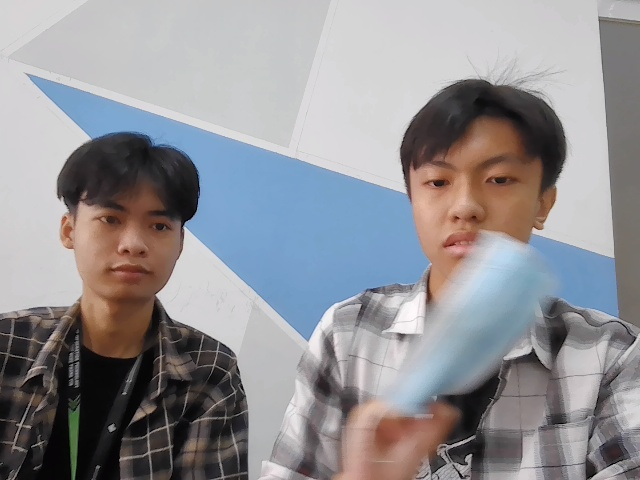human: (405, 75, 568, 267), (53, 130, 202, 297)
mask: (387, 231, 548, 436)
